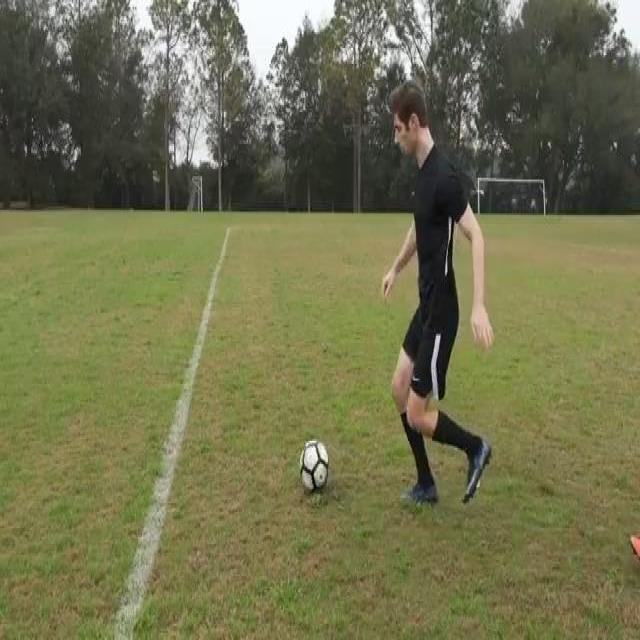Soccer Ball: (300, 440, 330, 493)
